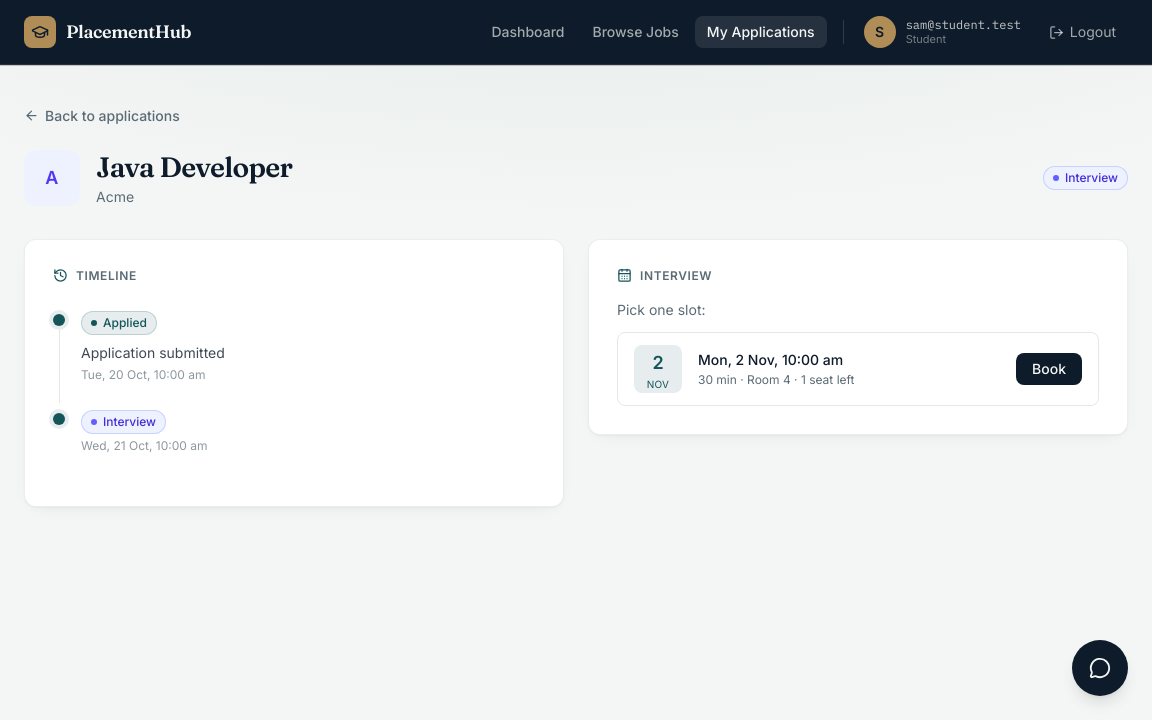
Application page › books a slot once even when Book is double-clicked (regression)
Click the button "Book". click: click(1049, 368)
box: [1016, 352, 1082, 384]
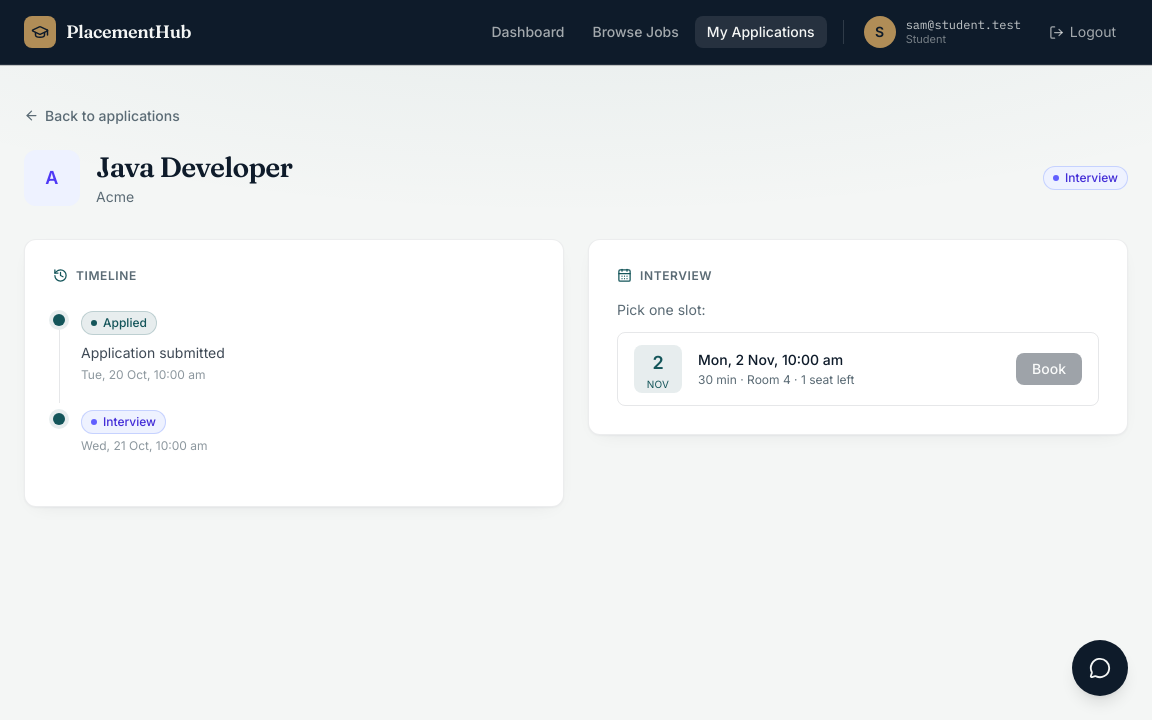
Click the button "Book". click: click(1049, 368)
box: [1016, 352, 1082, 384]
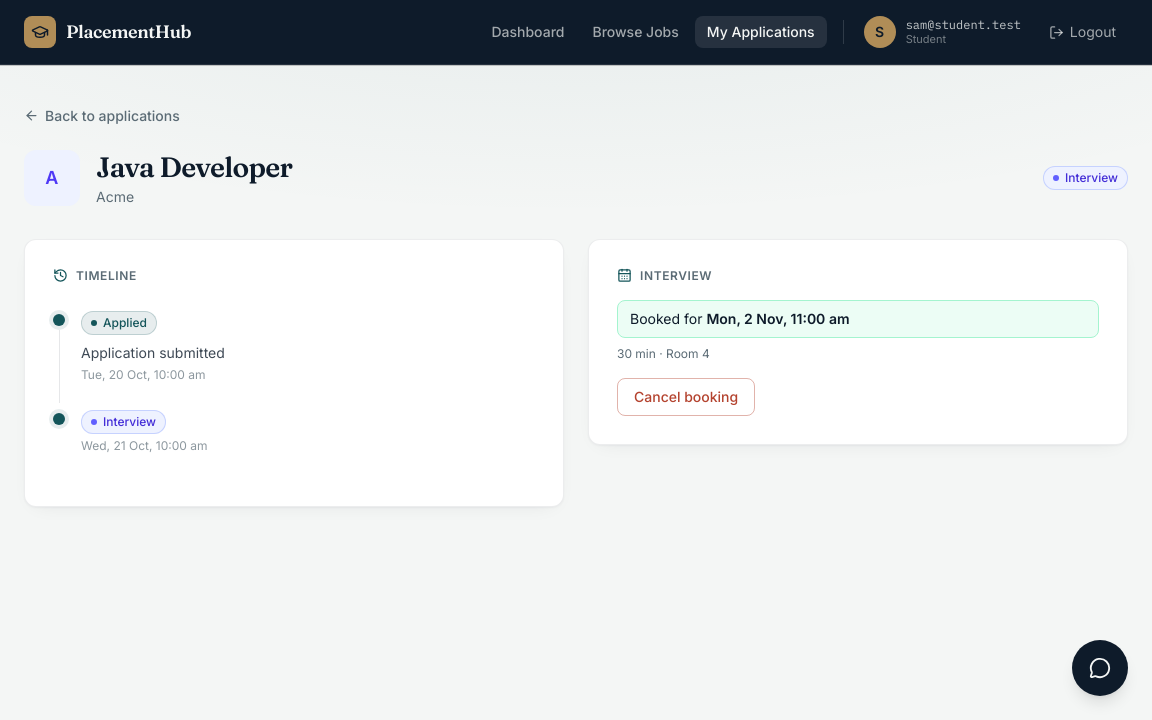
Check: the text "Booked for Mon, 2 Nov, 11:00 am" is shown, box [617, 300, 1099, 338]
